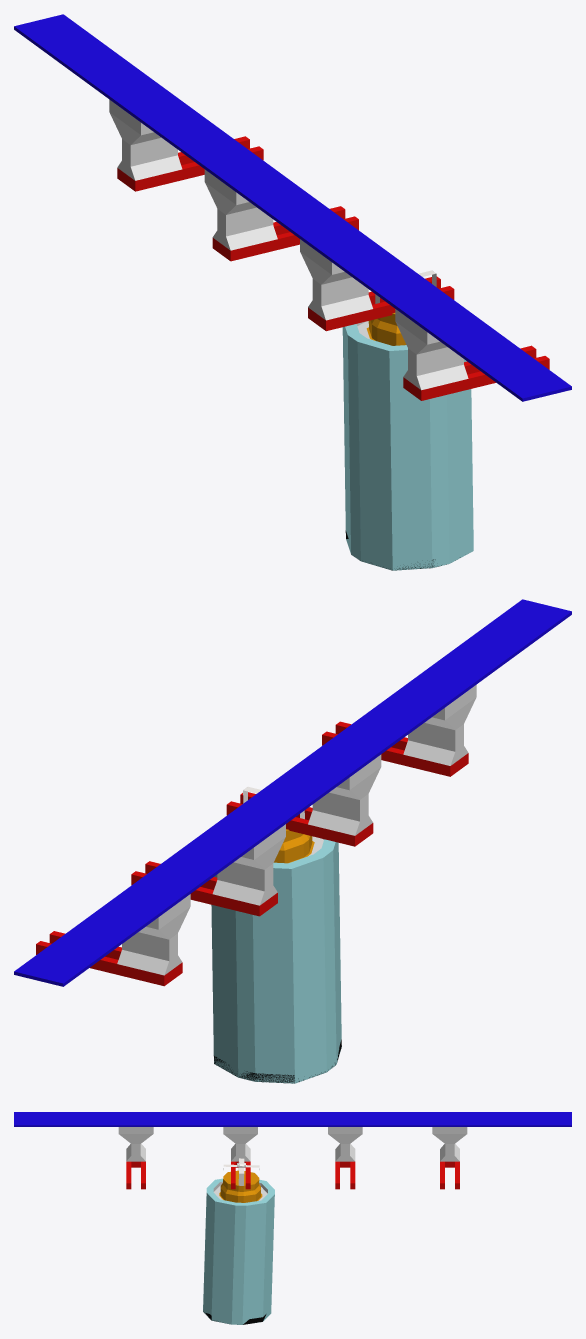
File: PotionBottle.fbx
3 views of the same model, one above another, from view 1: azimuth 30°, elevation 25°; view 2: azimuth 150°, elevation 25°; view 3: azimuth 270°, elevation 25° (orthographic). The views are drawn at different scales.
Parts seen in each view (by area): view 1: Plane.001, Bottle; view 2: Plane.001, Bottle; view 3: Plane.001, Bottle.
Part boxes in pixels (x1,y1,x2,y2): Plane.001: (14,14,571,401); Bottle: (342,270,473,570); Plane.001: (14,599,571,986); Bottle: (211,786,341,1083); Plane.001: (14,1112,571,1189); Bottle: (203,1158,274,1324).
Bounding box in the file's own units: 335 × 707 × 2043.
